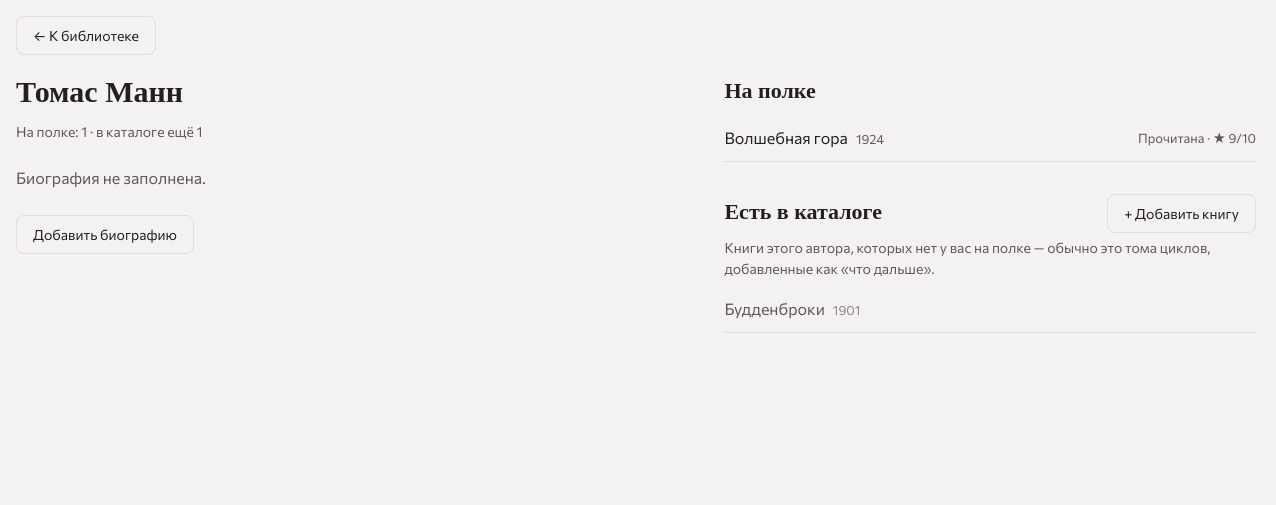
Test: книгу, которая уже в базе, отсюда добавить нельзя
Expected: the heading "Есть в каталоге" is shown, [724, 196, 882, 229]
Click the button "+ Добавить книгу": click(1182, 213) [1107, 194, 1256, 233]
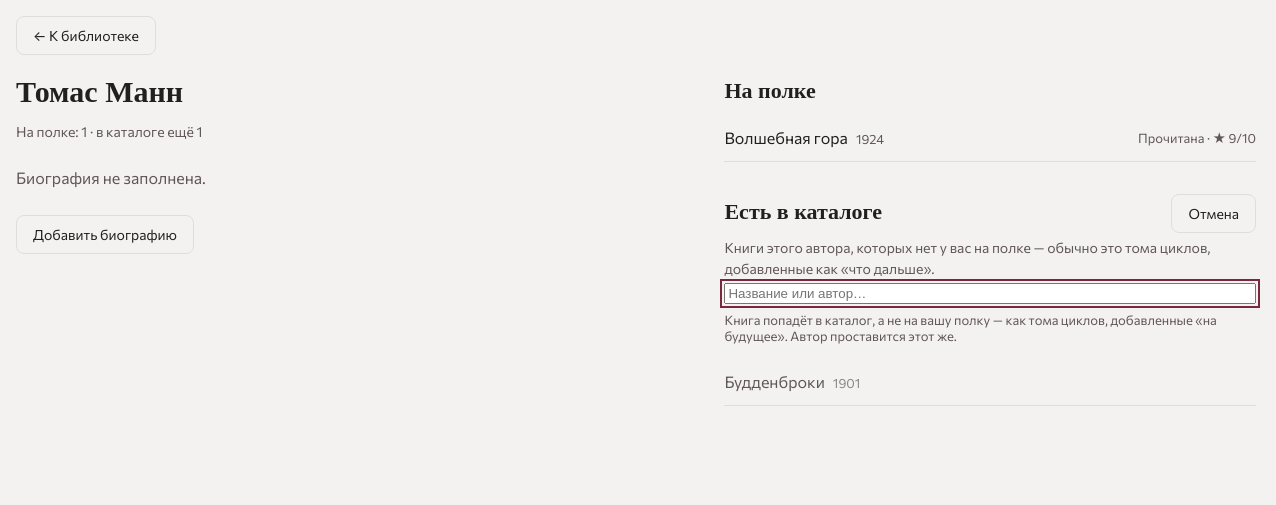
In the field named "Поиск книги": (990, 293) [724, 283, 1256, 304], type "тайное"
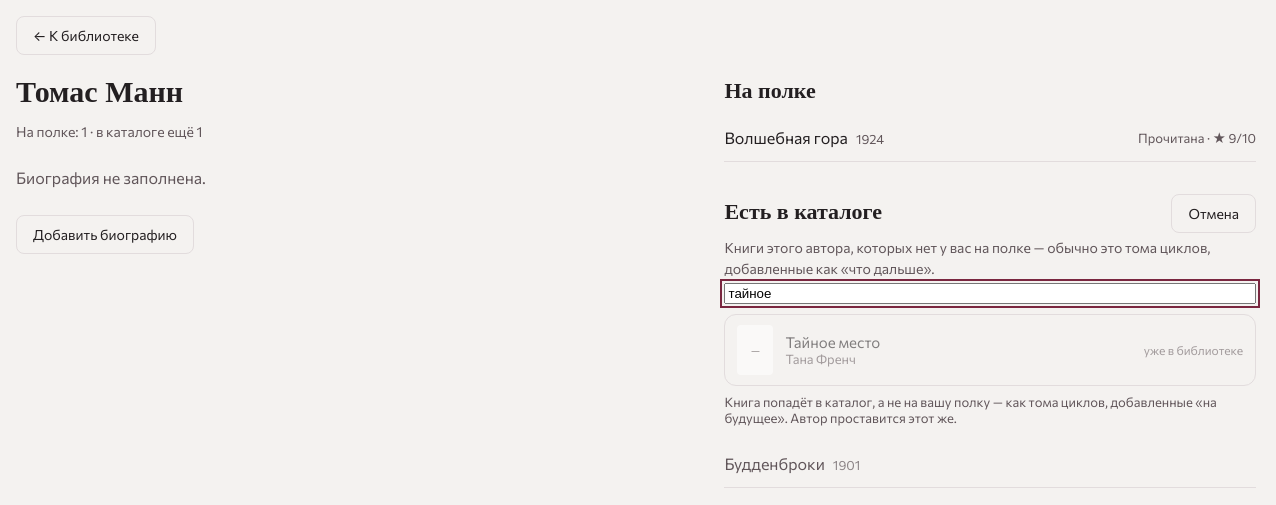
Expected: the button "— Тайное место Тана Френч уже в библиотеке" is disabled, [725, 315, 1255, 385]
Expected: the text "уже в библиотеке" is shown, [1144, 343, 1243, 357]
